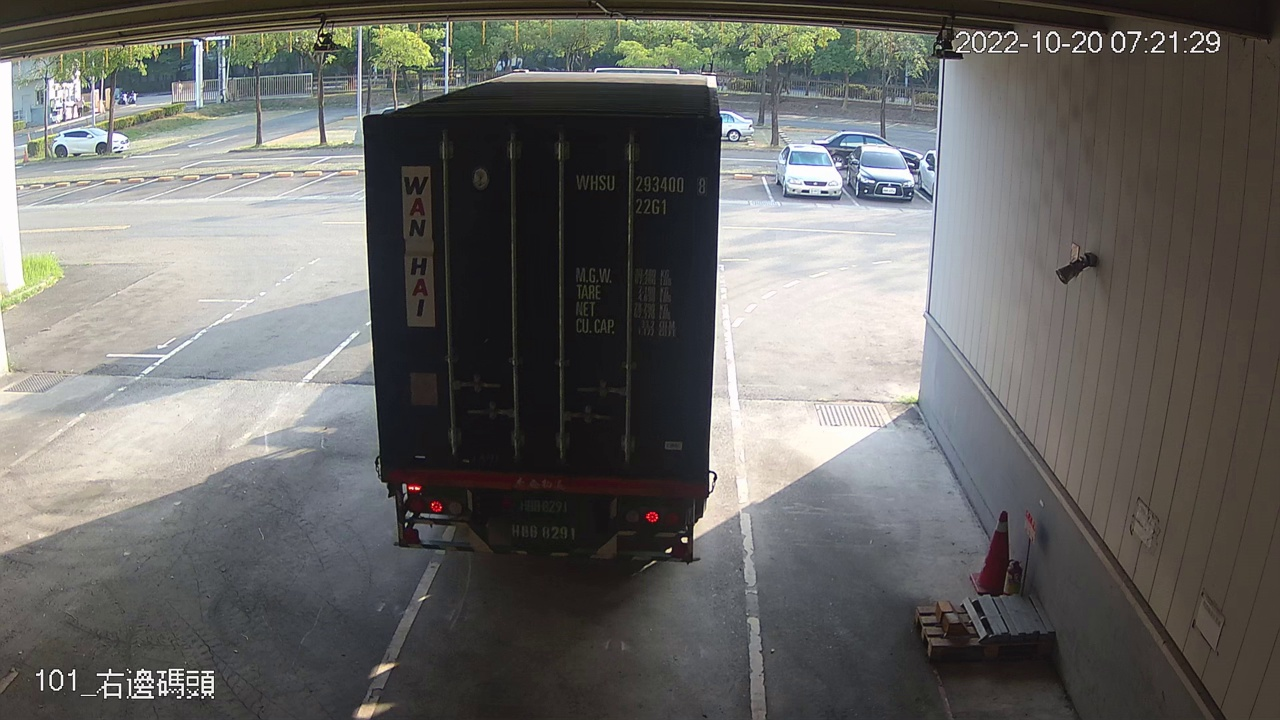container: (570, 165, 715, 219)
